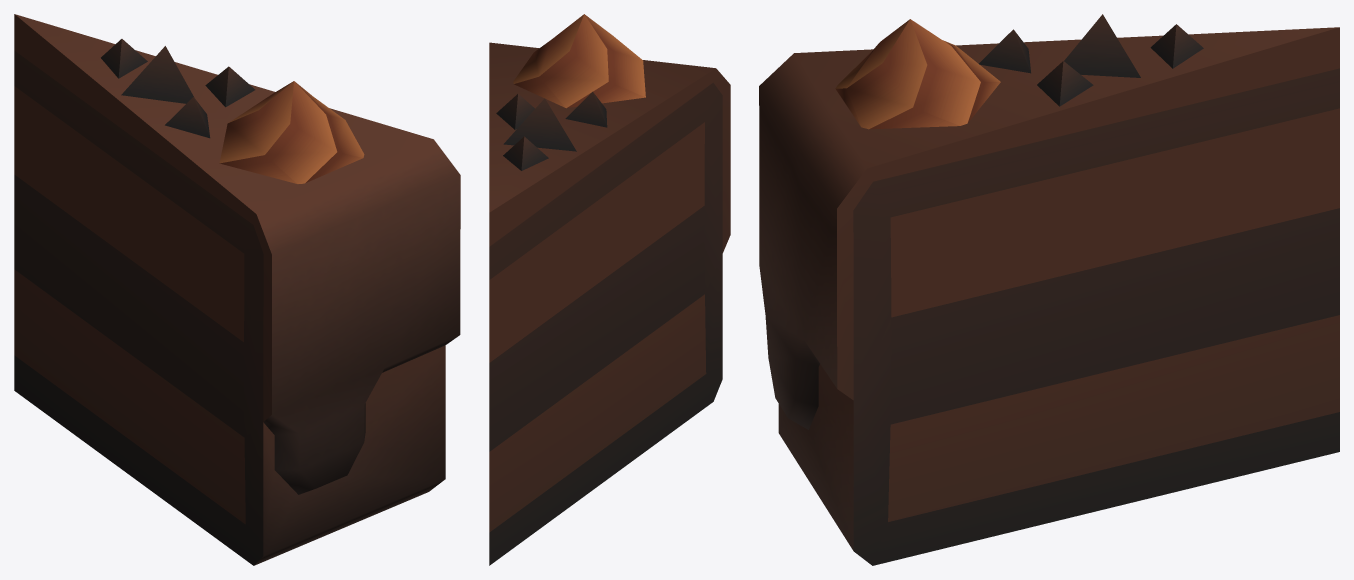
File: m_ChocolateCake02_Slice02.fbx
3 renders of one model, left to right at view 1: azimuth 30°, elevation 25°; view 2: azimuth 150°, elevation 25°; view 3: azimuth 270°, elevation 25°, orthographic. The views are drawn at different scales.
Parts seen in each view (by area): view 1: m_ChocolateCake02_Slice02; view 2: m_ChocolateCake02_Slice02; view 3: m_ChocolateCake02_Slice02.
Boxes of the visible parts, left/top/right/bottom form: m_ChocolateCake02_Slice02: left=14, top=14, right=460, bottom=565; m_ChocolateCake02_Slice02: left=489, top=14, right=730, bottom=565; m_ChocolateCake02_Slice02: left=759, top=14, right=1339, bottom=565.
Bounding box in the file's own units: 7.24 × 13.27 × 14.48.
